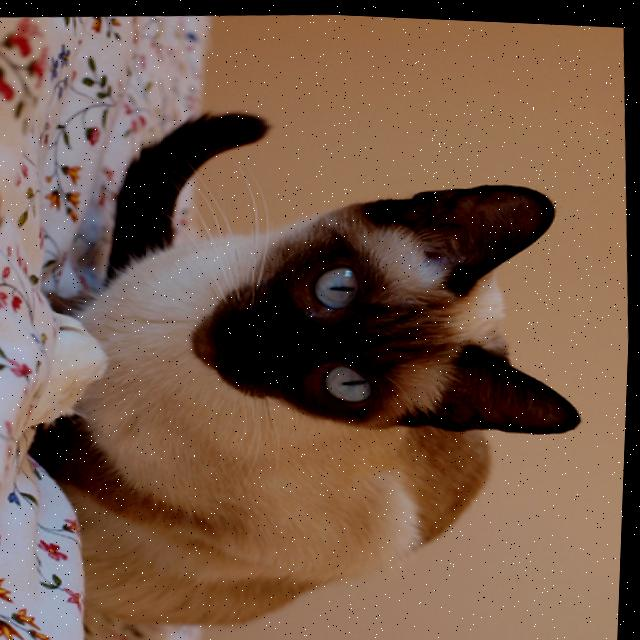Siamese: (14, 82, 610, 640)
